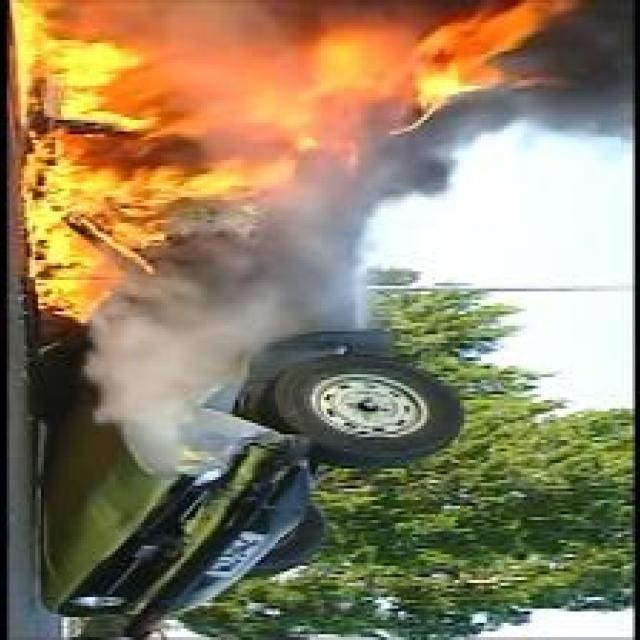Fire: (10, 1, 576, 328)
